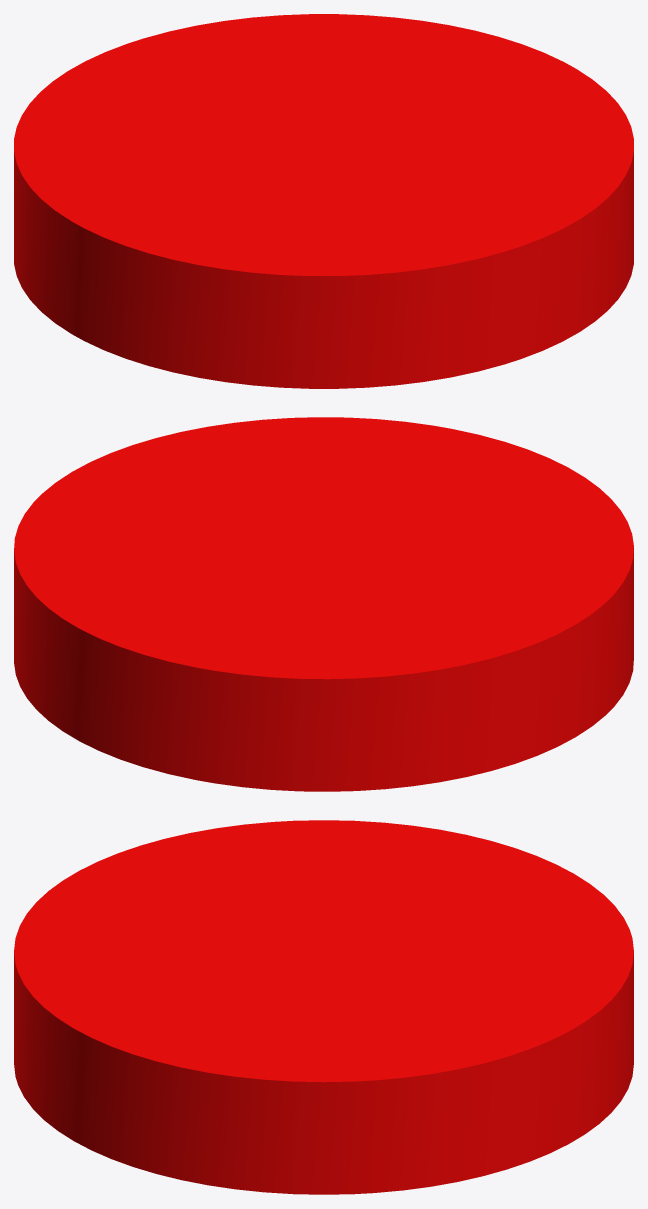
File: ficha_roja.glb
3 views of the same model, one above another, from view 1: azimuth 30°, elevation 25°; view 2: azimuth 150°, elevation 25°; view 3: azimuth 270°, elevation 25° (orthographic).
Parts seen in each view (by area): view 1: ficha_roja; view 2: ficha_roja; view 3: ficha_roja.
Part boxes in pixels (left/top/right/bottom): ficha_roja: left=14, top=14, right=633, bottom=388; ficha_roja: left=14, top=417, right=633, bottom=791; ficha_roja: left=14, top=820, right=633, bottom=1194.
Bounding box in the file's own units: 0.0176 × 0.00353 × 0.0176.
